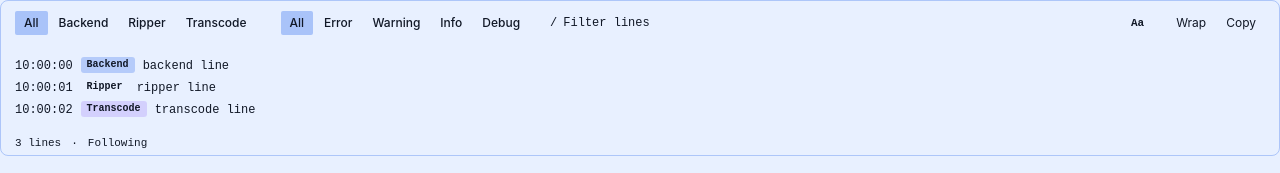
Test: LogView › filters by text search on message or logger, case-insensitively, when search is enabled
This screenshot has width=1280, height=173.
Type "RIPPER" into the field with test id "job-log-search" at (842, 23), box top-left (563, 16), bottom-right (1120, 30)
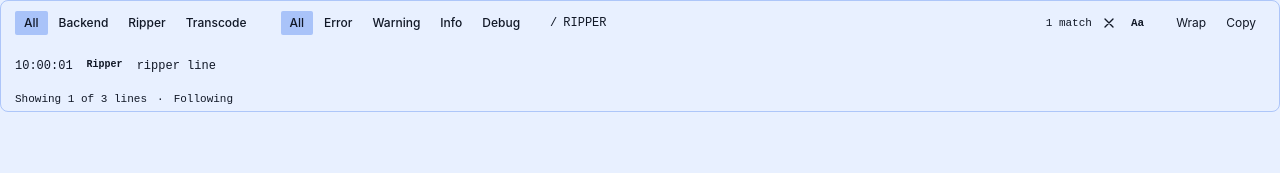
Result: the text "ripper line" is shown at top-left (137, 57), bottom-right (216, 75)
Result: the text "backend line" is gone
Result: the text "transcode line" is gone
